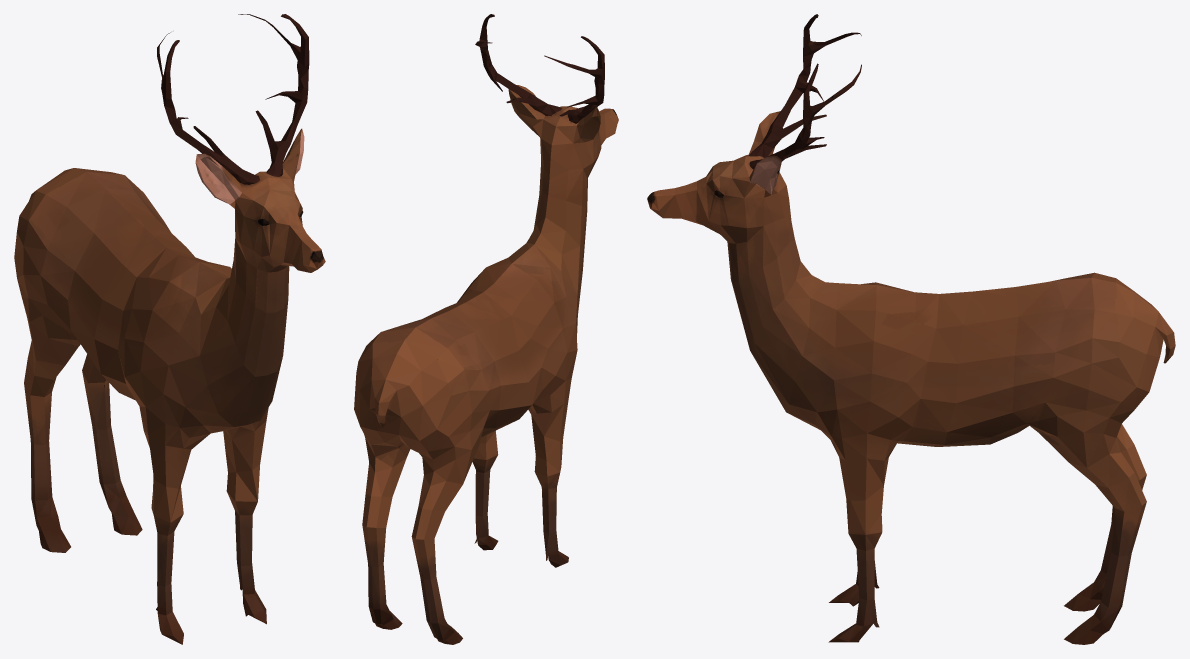
Rendered from Deer.obj.
3 renders of one model, left to right at view 1: azimuth 30°, elevation 25°; view 2: azimuth 150°, elevation 25°; view 3: azimuth 270°, elevation 25°, orthographic. The views are drawn at different scales.
Parts seen in each view (by area): view 1: Deer; view 2: Deer; view 3: Deer.
Part boxes in pixels (x1=…): Deer: x1=14, y1=14, x2=325, y2=644; Deer: x1=354, y1=14, x2=618, y2=644; Deer: x1=647, y1=14, x2=1175, y2=644.
Size of the model in its own units: 1.47 by 5.92 by 4.86.
Materials: 1 (1 with a texture image).
